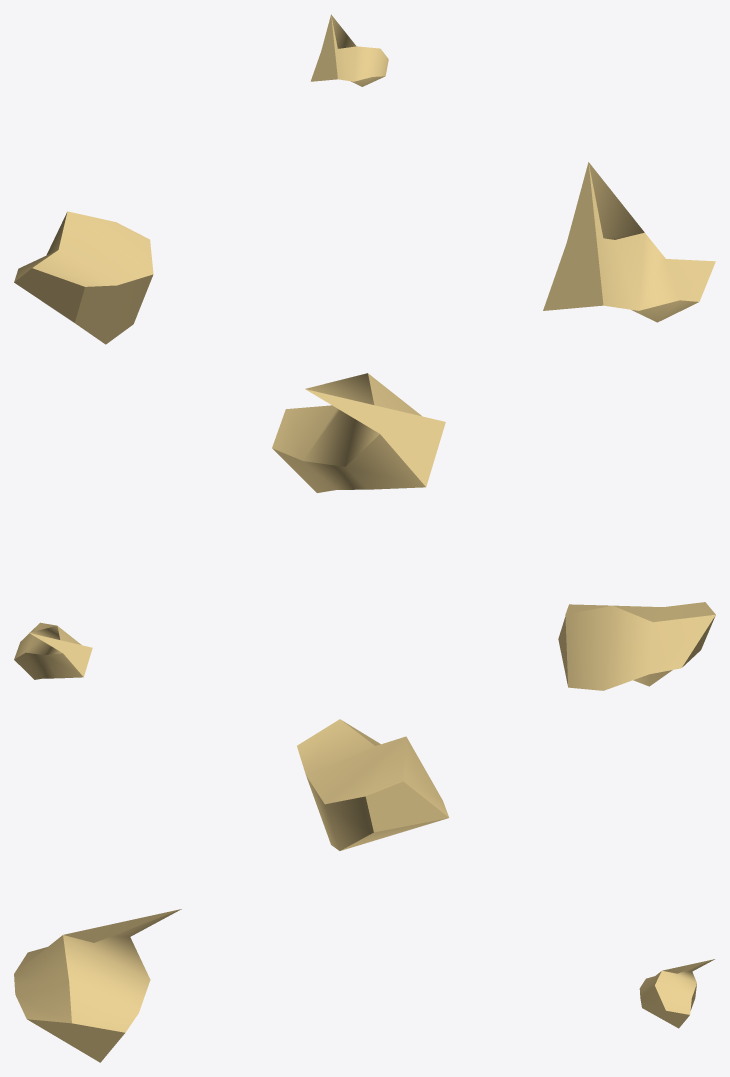
File: crumbs3.fbx
3 renders of one model, top to bottom at view 1: azimuth 30°, elevation 25°; view 2: azimuth 150°, elevation 25°; view 3: azimuth 270°, elevation 25°, orthographic. The views are drawn at different scales.
Parts seen in each view (by area): view 1: pCube35, pCube36, pCube34; view 2: pCube35, pCube36, pCube34; view 3: pCube35, pCube36, pCube34.
Part boxes in pixels (x1,y1,x2,y2): pCube35: (543, 162, 715, 322); pCube36: (14, 211, 153, 344); pCube34: (310, 14, 388, 86); pCube35: (272, 373, 445, 492); pCube36: (558, 602, 715, 690); pCube34: (14, 622, 92, 679); pCube35: (14, 909, 181, 1062); pCube36: (297, 719, 449, 850); pCube34: (639, 959, 714, 1028).
Bounding box in the file's own units: 38.19 × 9.14 × 41.53.
